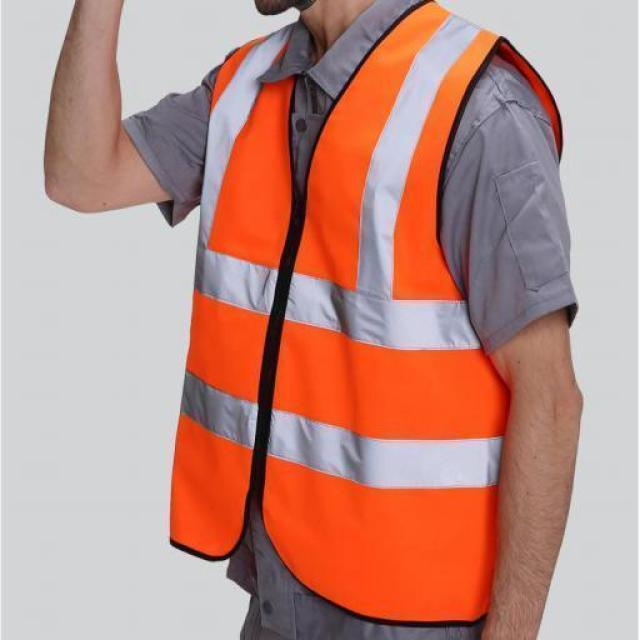vest: (174, 4, 564, 621)
